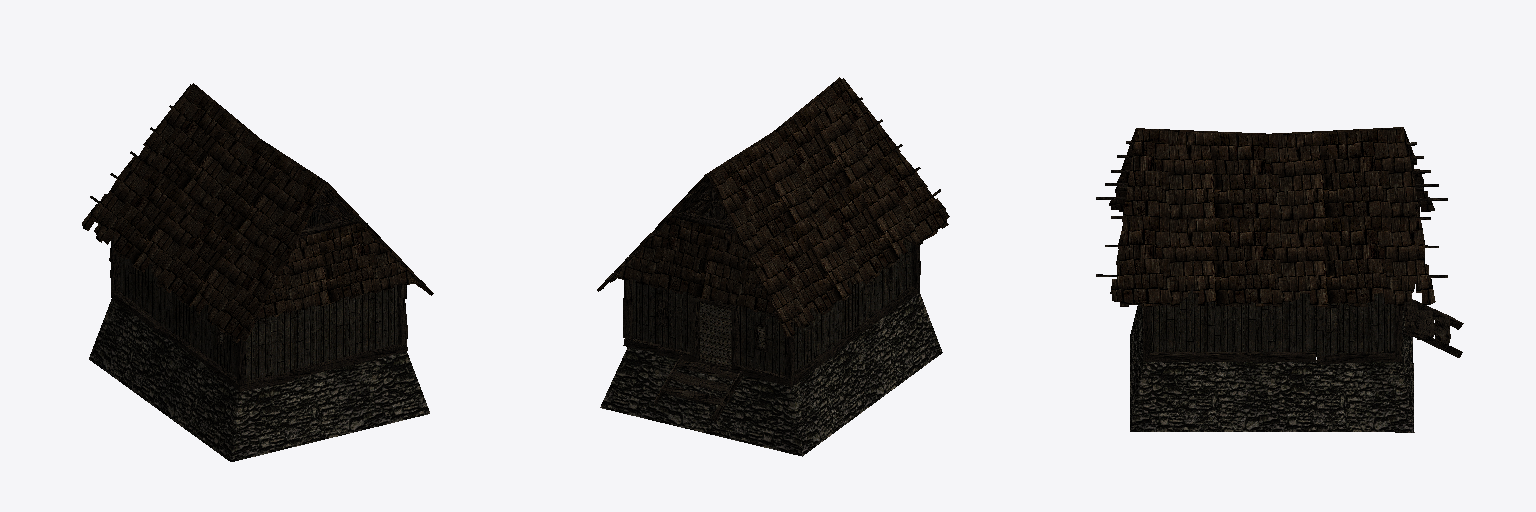
3 views of the same model, side by side, from view 1: azimuth 30°, elevation 25°; view 2: azimuth 150°, elevation 25°; view 3: azimuth 270°, elevation 25° (orthographic).
Parts seen in each view (by area): view 1: G3_Myrtana_House_Small_01_1, G3_Myrtana_House_Small_01_0, G3_Myrtana_House_Small_01_2, G3_Myrtana_House_Small_01_3; view 2: G3_Myrtana_House_Small_01_1, G3_Myrtana_House_Small_01_0, G3_Myrtana_House_Small_01_2, G3_Myrtana_House_Small_01_3; view 3: G3_Myrtana_House_Small_01_1, G3_Myrtana_House_Small_01_0, G3_Myrtana_House_Small_01_2, G3_Myrtana_House_Small_01_3.
Part boxes in pixels (x1,y1,x2,y2): G3_Myrtana_House_Small_01_1: (82,83,433,342); G3_Myrtana_House_Small_01_0: (89,299,429,461); G3_Myrtana_House_Small_01_2: (119,211,397,380); G3_Myrtana_House_Small_01_3: (90,105,425,391); G3_Myrtana_House_Small_01_1: (597,77,949,336); G3_Myrtana_House_Small_01_0: (600,293,942,456); G3_Myrtana_House_Small_01_2: (633,207,911,374); G3_Myrtana_House_Small_01_3: (605,84,940,421); G3_Myrtana_House_Small_01_1: (1109,127,1435,306); G3_Myrtana_House_Small_01_0: (1130,305,1414,432); G3_Myrtana_House_Small_01_2: (1150,285,1395,356); G3_Myrtana_House_Small_01_3: (1096,141,1463,365).
Bounding box in the file's own units: 8.66 × 10.44 × 13.65.
Materials: 4 (4 with a texture image).